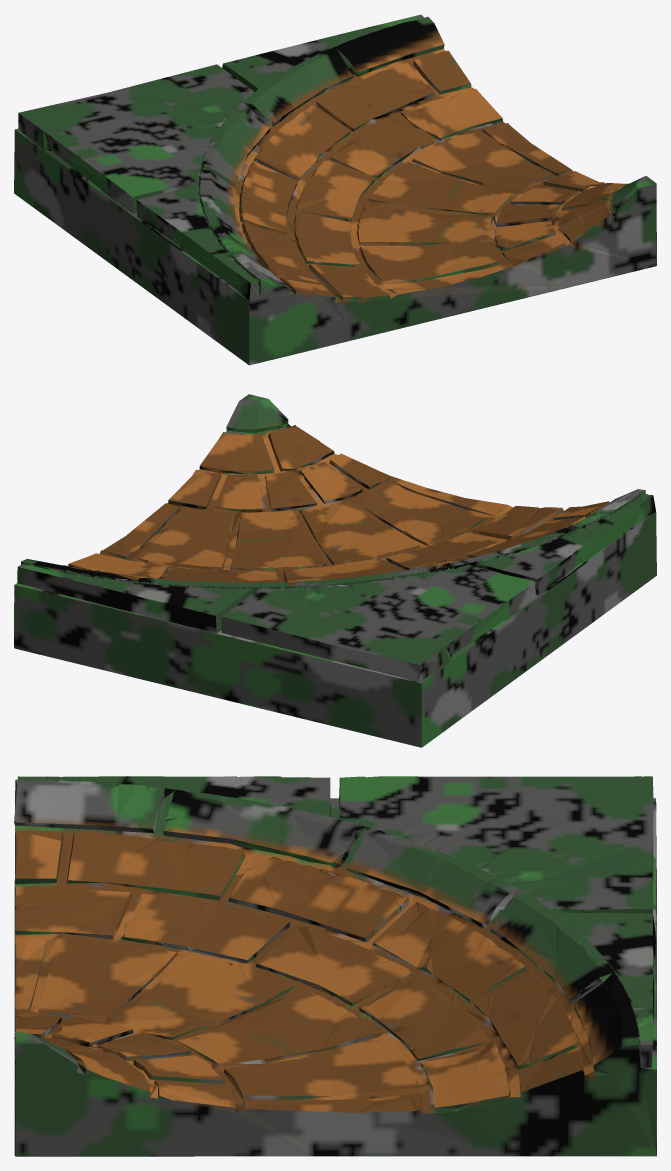
File: sluice_curve.fbx
3 renders of one model, top to bottom at view 1: azimuth 30°, elevation 25°; view 2: azimuth 150°, elevation 25°; view 3: azimuth 270°, elevation 25°, orthographic. The views are drawn at different scales.
Parts seen in each view (by area): view 1: Sewer Sluice Curved; view 2: Sewer Sluice Curved; view 3: Sewer Sluice Curved.
Part boxes in pixels (bbox=[...]): Sewer Sluice Curved: bbox=[14, 14, 656, 365]; Sewer Sluice Curved: bbox=[14, 394, 656, 747]; Sewer Sluice Curved: bbox=[14, 776, 656, 1156].
Size of the model in its own units: 4991 by 982 by 4992.
Materials: 1 (1 with a texture image).
